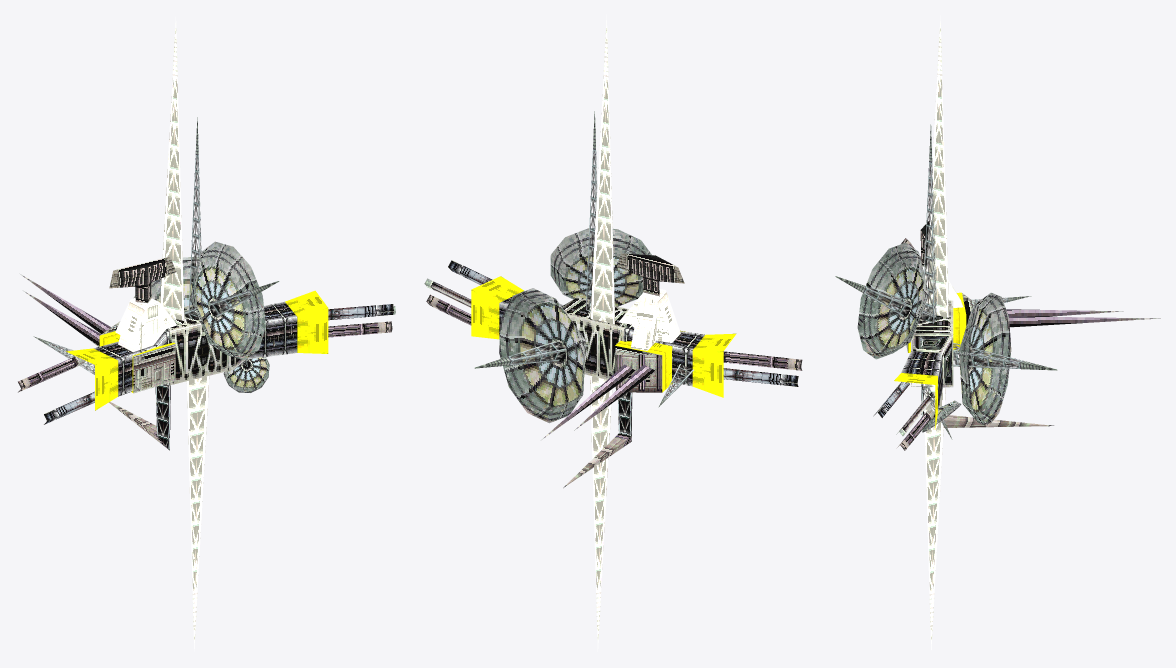
Rendered from tsensor_cmp.gltf.
3 renders of one model, left to right at view 1: azimuth 30°, elevation 25°; view 2: azimuth 150°, elevation 25°; view 3: azimuth 270°, elevation 25°, orthographic. The views are drawn at different scales.
Visible parts, largest first — view 1: Root, radar; view 2: Root, radar; view 3: Root.
Part boxes in pixels (x1,y1,x2,y2): Root: (18,17,395,651); radar: (109,257,176,303); Root: (424,14,802,651); radar: (617,253,684,296); Root: (835,15,1160,649).
Size of the model in its own units: 20.54 by 33.34 by 15.72.
10 materials, 10 textured.
